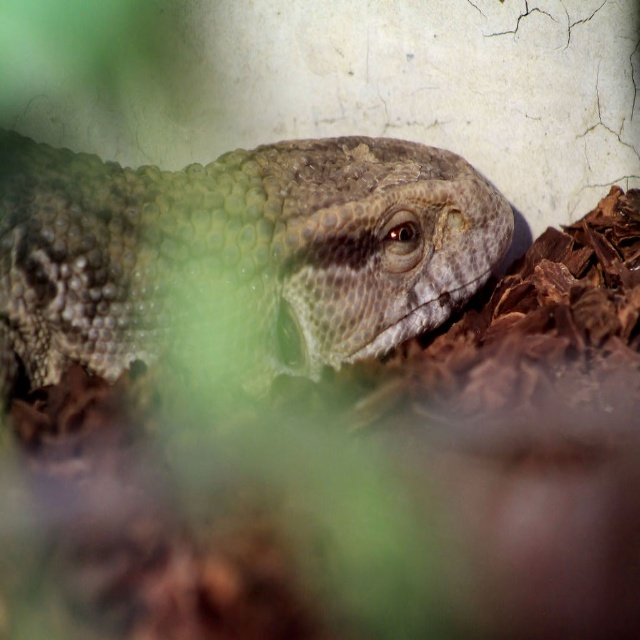Lizard: (19, 150, 542, 534)
